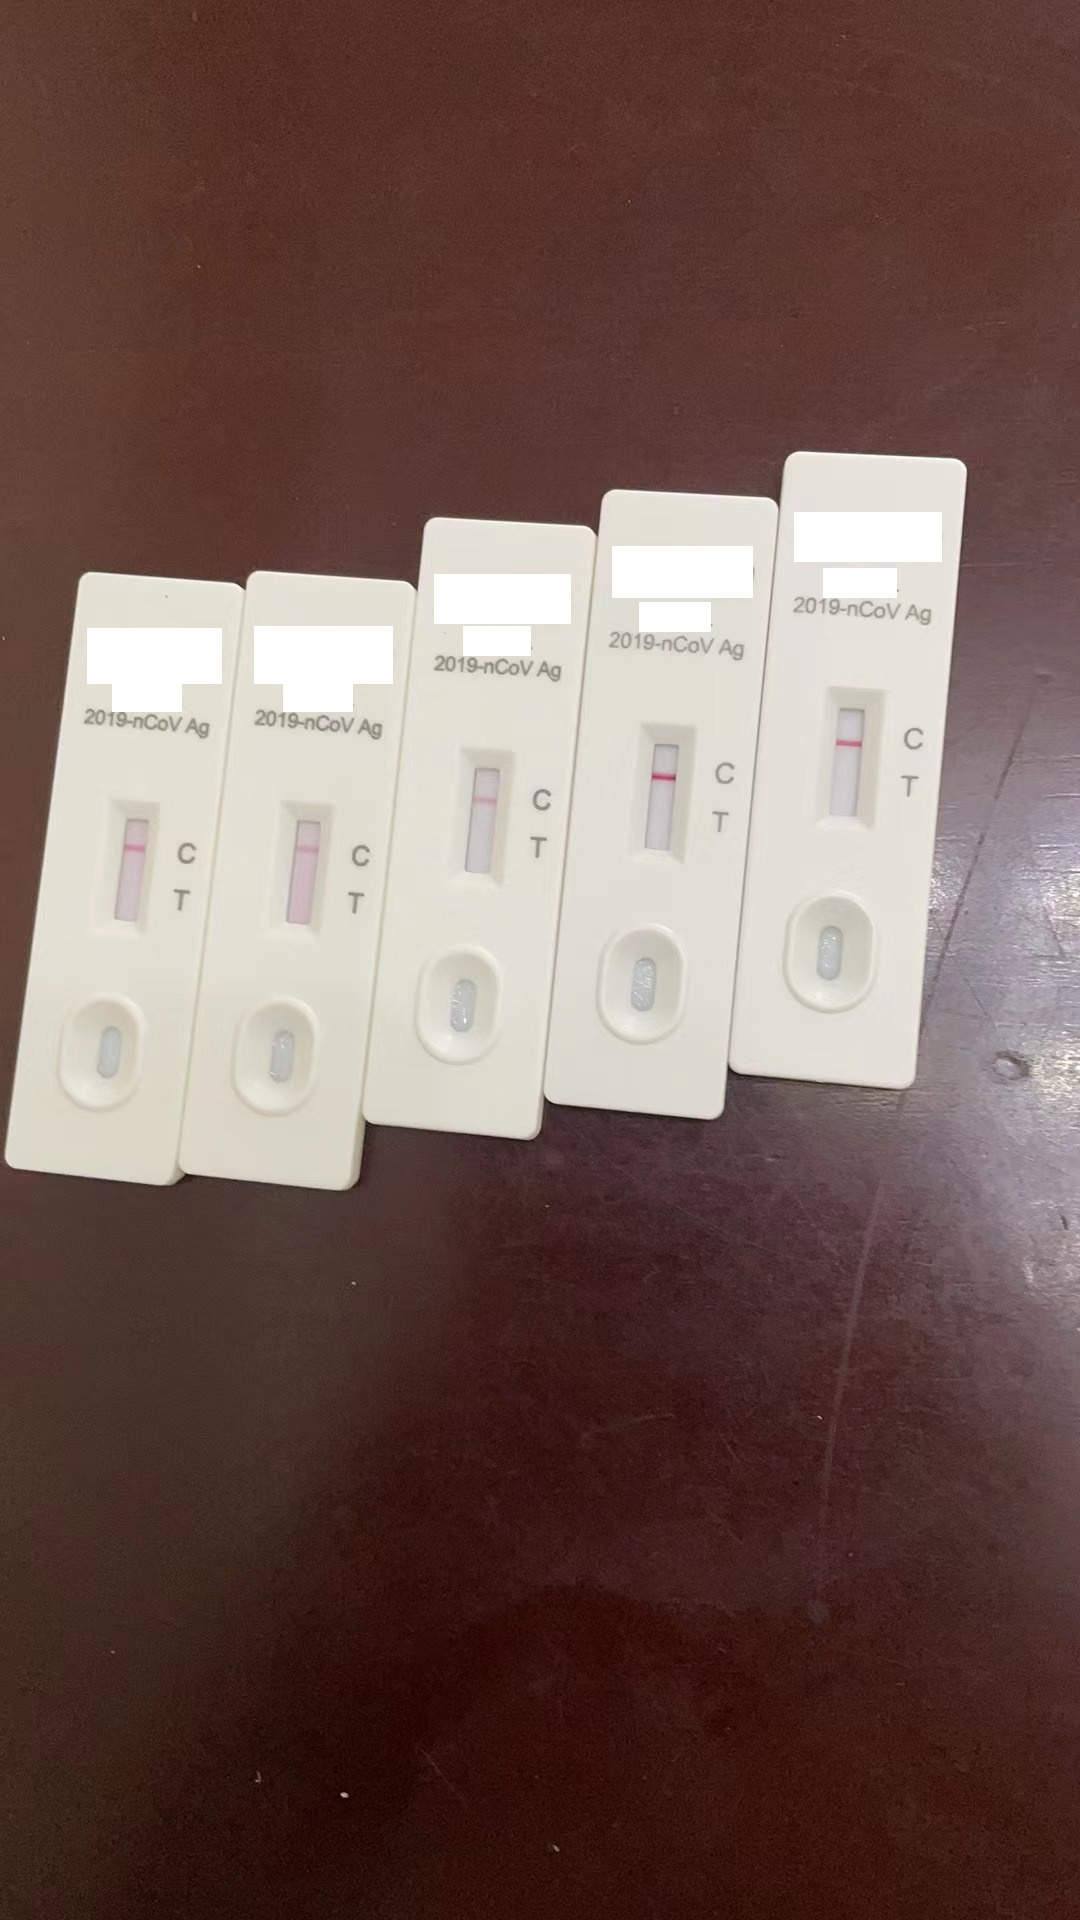negative: (818, 686, 886, 827), (632, 725, 696, 862), (272, 800, 336, 932), (455, 745, 517, 880), (104, 800, 158, 930)
